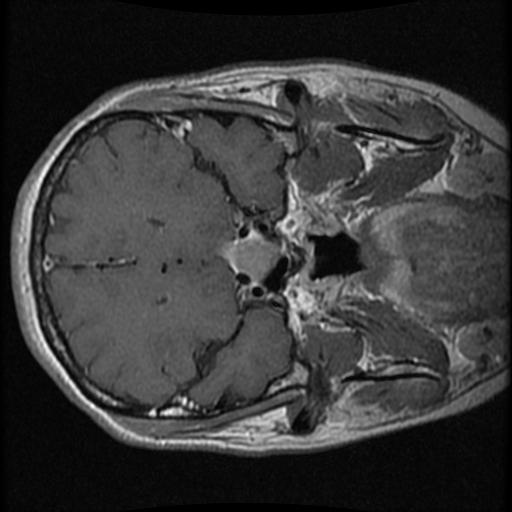pituitary tumour: (218, 229, 281, 288)
